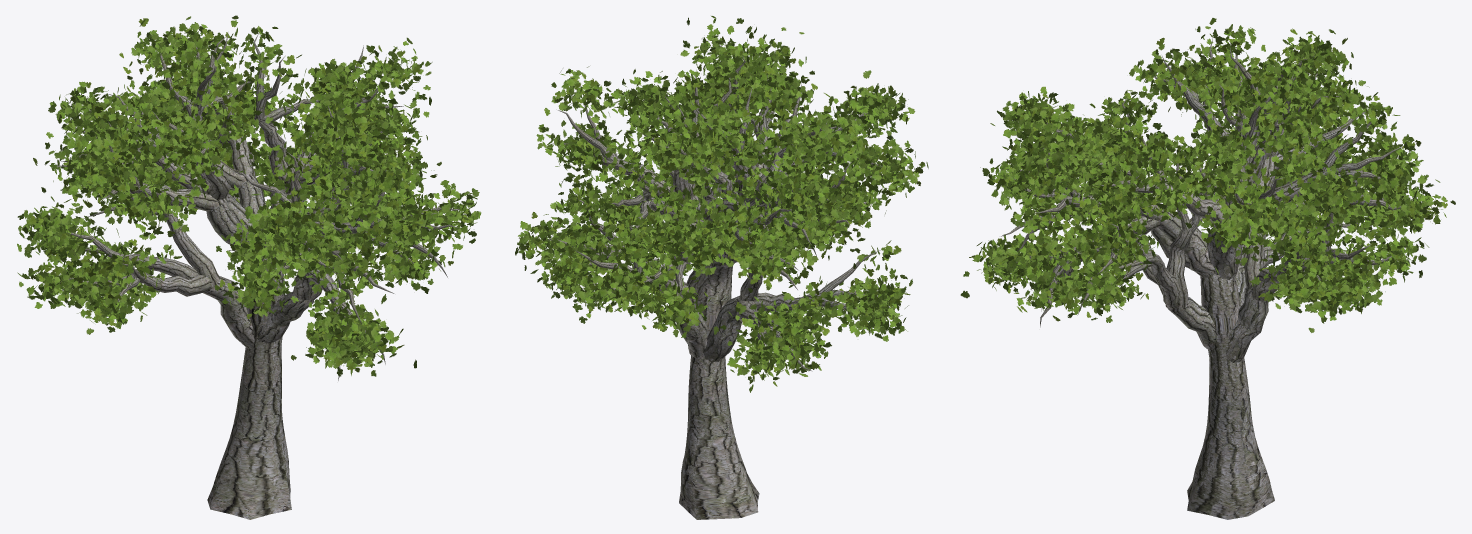
Rendered from oak_easytree_v017.glb.
The picture shows the model from 3 angles, left to right: view 1: azimuth 30°, elevation 25°; view 2: azimuth 150°, elevation 25°; view 3: azimuth 270°, elevation 25°; orthographic projection. The views are drawn at different scales.
Visible parts, largest first — view 1: Oak foliage cards, Oak_EasyTree_V017_Proof; view 2: Oak foliage cards, Oak_EasyTree_V017_Proof; view 3: Oak foliage cards, Oak_EasyTree_V017_Proof.
Part boxes in pixels (box(x1,y1,x2,y2)): Oak foliage cards: box(17, 15, 481, 376); Oak_EasyTree_V017_Proof: box(56, 32, 459, 519); Oak foliage cards: box(515, 16, 928, 392); Oak_EasyTree_V017_Proof: box(546, 45, 882, 519); Oak foliage cards: box(960, 18, 1455, 332); Oak_EasyTree_V017_Proof: box(1001, 37, 1402, 519).
Size of the model in its own units: 7.07 by 7.78 by 7.86.
Materials: 2 (2 with a texture image).
